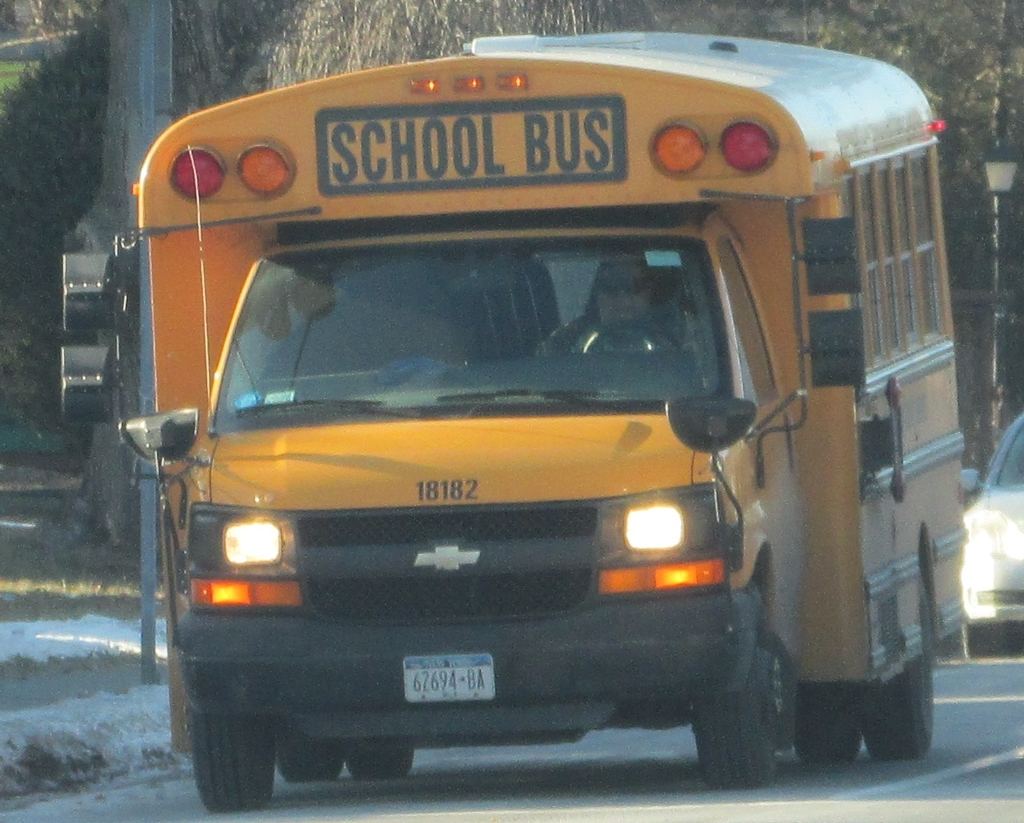Bus: (112, 28, 968, 812)
